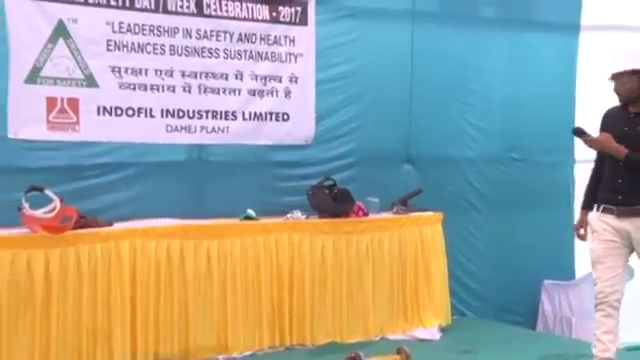helmet: (608, 47, 640, 80)
helmet_on: (602, 46, 640, 107)
person: (568, 45, 635, 360)
